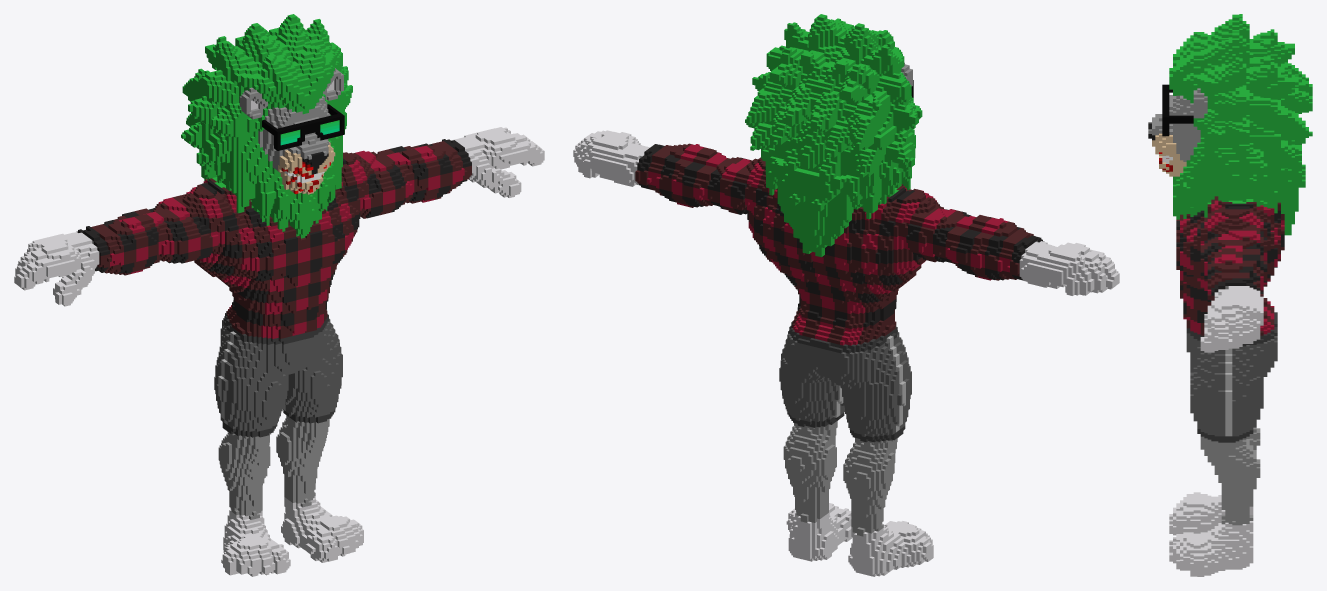
The picture shows the model from 3 angles, left to right: view 1: azimuth 30°, elevation 25°; view 2: azimuth 150°, elevation 25°; view 3: azimuth 270°, elevation 25°; orthographic projection. The views are drawn at different scales.
Parts seen in each view (by area): view 1: blood; view 2: blood; view 3: blood.
Boxes of the visible parts, <box> form: blood: <box>14,14,544,576</box>; blood: <box>573,14,1119,576</box>; blood: <box>1148,14,1312,576</box>.
Bounding box in the file's own units: 17.2 × 16.5 × 4.7.
5 materials, 5 textured.
